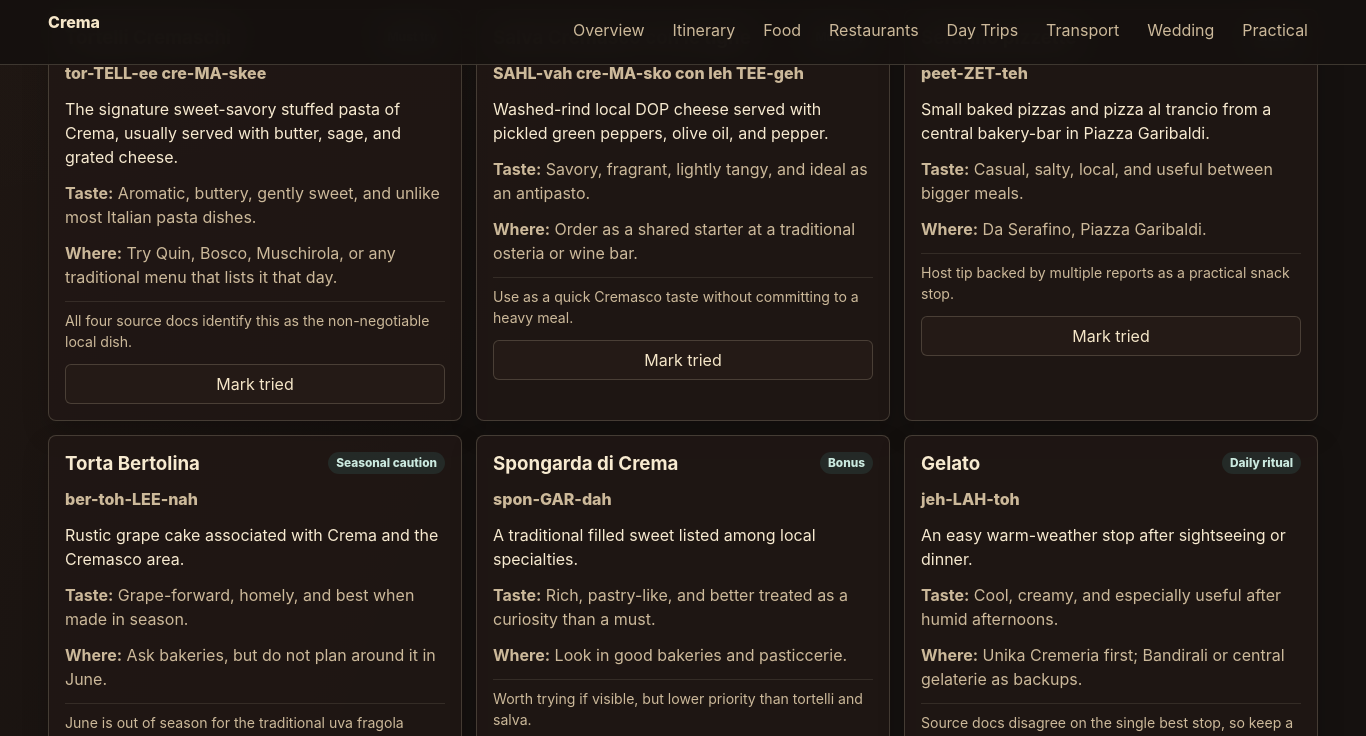
Test case: saves food checklist state in localStorage
The image size is (1366, 736).
(page scrolled)
Click the button with aria-label "Mark tortelli cremaschi as tried". click: (255, 384)
box: [65,364,445,404]
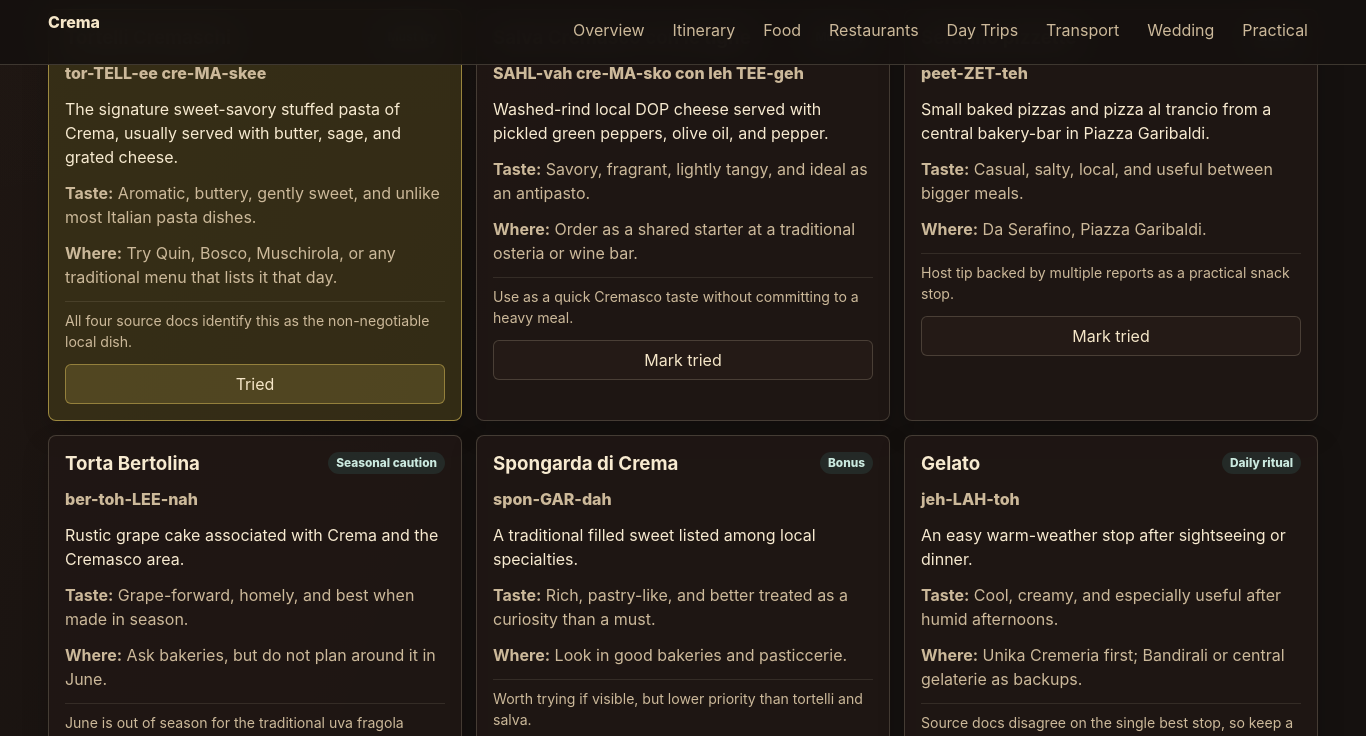
Check: the button with aria-label "Unmark tortelli cremaschi as not tried" is shown, box [65,364,445,404]
